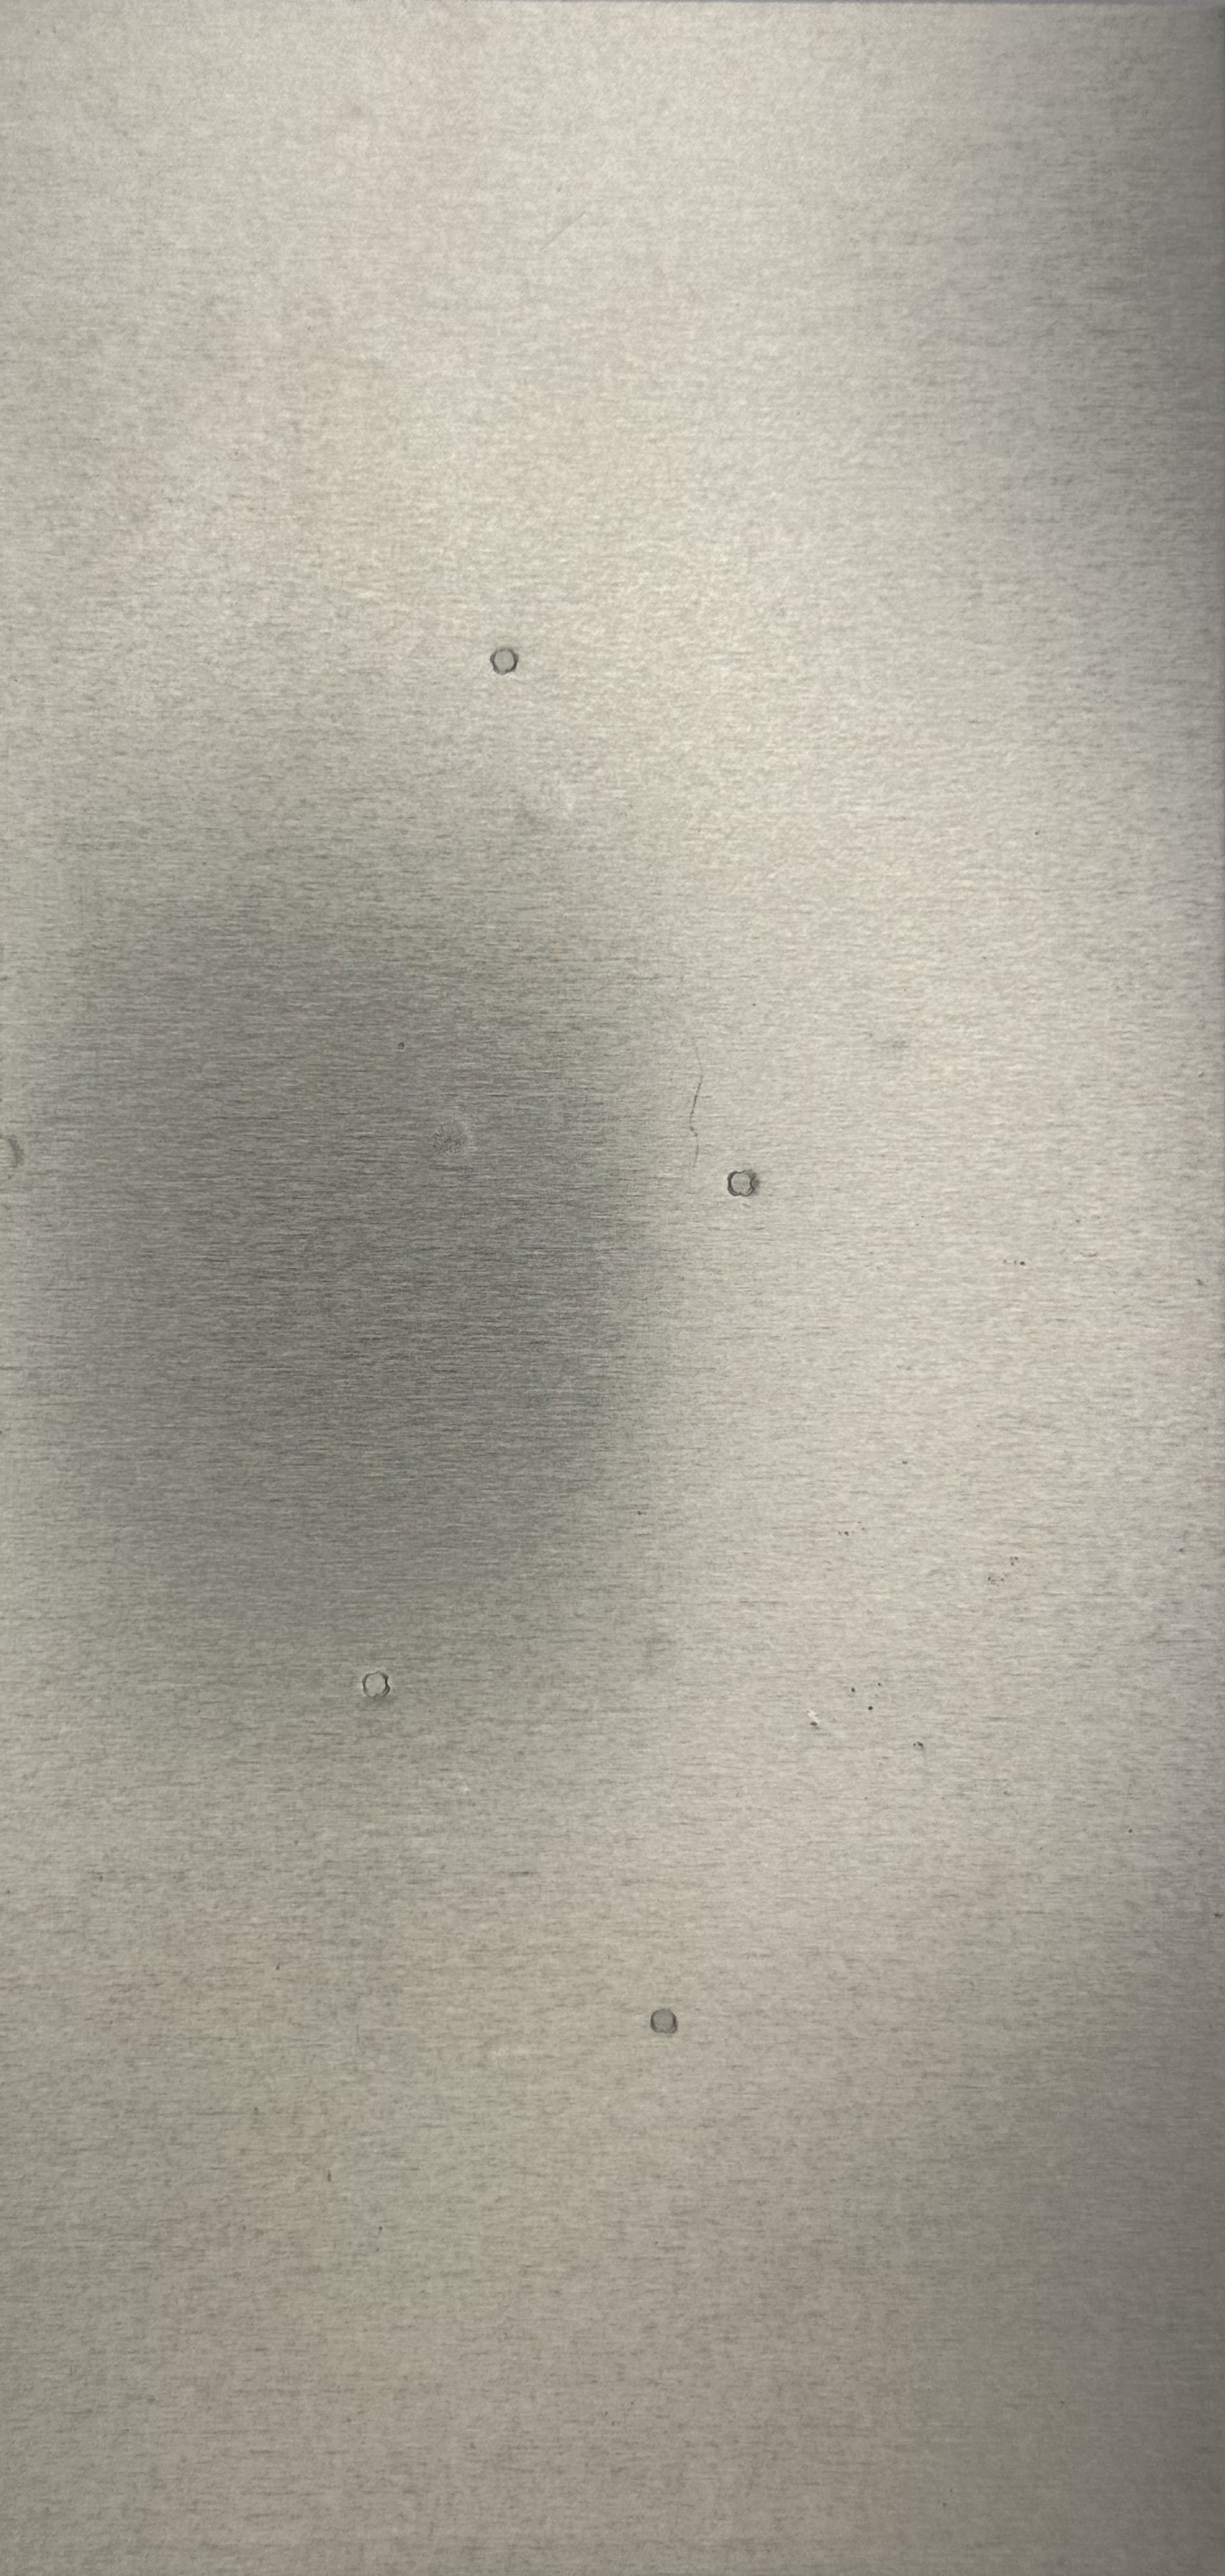Delle: (378, 1088, 521, 1206), (484, 759, 599, 843), (0, 1091, 54, 1226), (698, 1152, 791, 1211), (632, 1993, 709, 2055), (632, 1625, 700, 1686), (343, 1659, 402, 1718), (478, 634, 535, 693)
